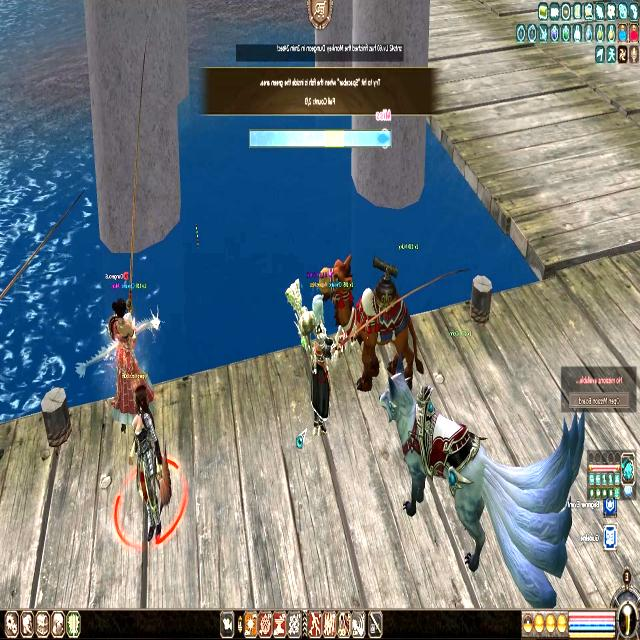fishes: (376, 129, 390, 148)
